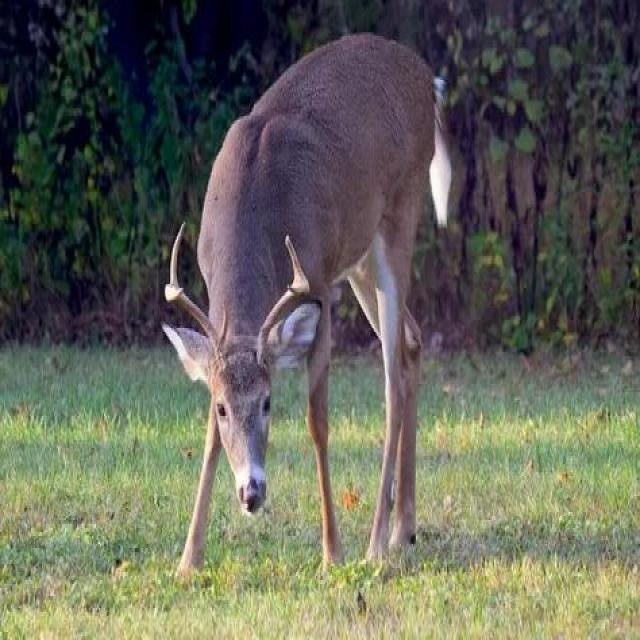deer: (168, 46, 484, 594)
